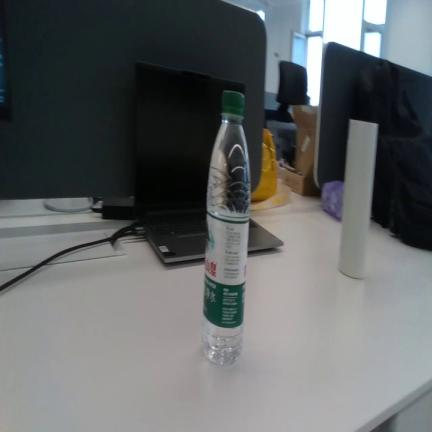bottle: (203, 91, 251, 365)
